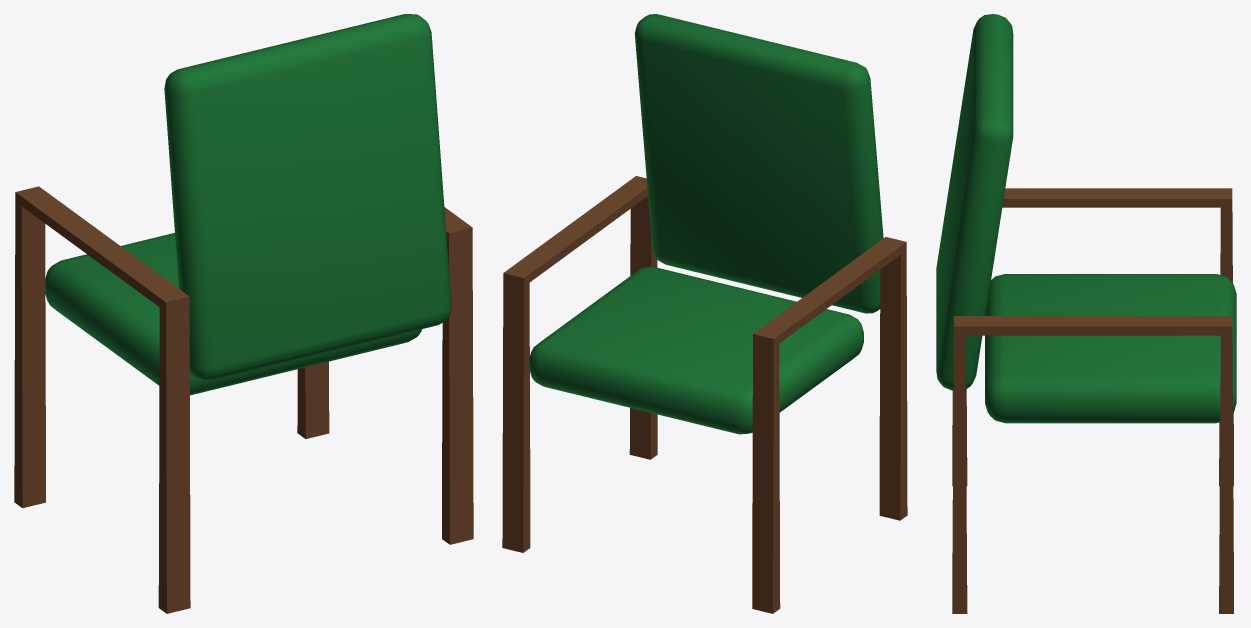
Rendered from hospital.bed.visitor_chair.glb.
3 views of the same model, side by side, from view 1: azimuth 30°, elevation 25°; view 2: azimuth 150°, elevation 25°; view 3: azimuth 270°, elevation 25° (orthographic). The views are drawn at different scales.
Parts seen in each view (by area): view 1: main__plastic_green, main__hardwood; view 2: main__plastic_green, main__hardwood; view 3: main__plastic_green, main__hardwood.
Part boxes in pixels (bbox=[...]): main__plastic_green: bbox=[45, 14, 451, 395]; main__hardwood: bbox=[14, 186, 473, 613]; main__plastic_green: bbox=[529, 14, 883, 434]; main__hardwood: bbox=[502, 176, 907, 613]; main__plastic_green: bbox=[936, 14, 1236, 423]; main__hardwood: bbox=[952, 188, 1233, 613].
Bounding box in the file's own units: 0.65 × 1.05 × 0.5965.
